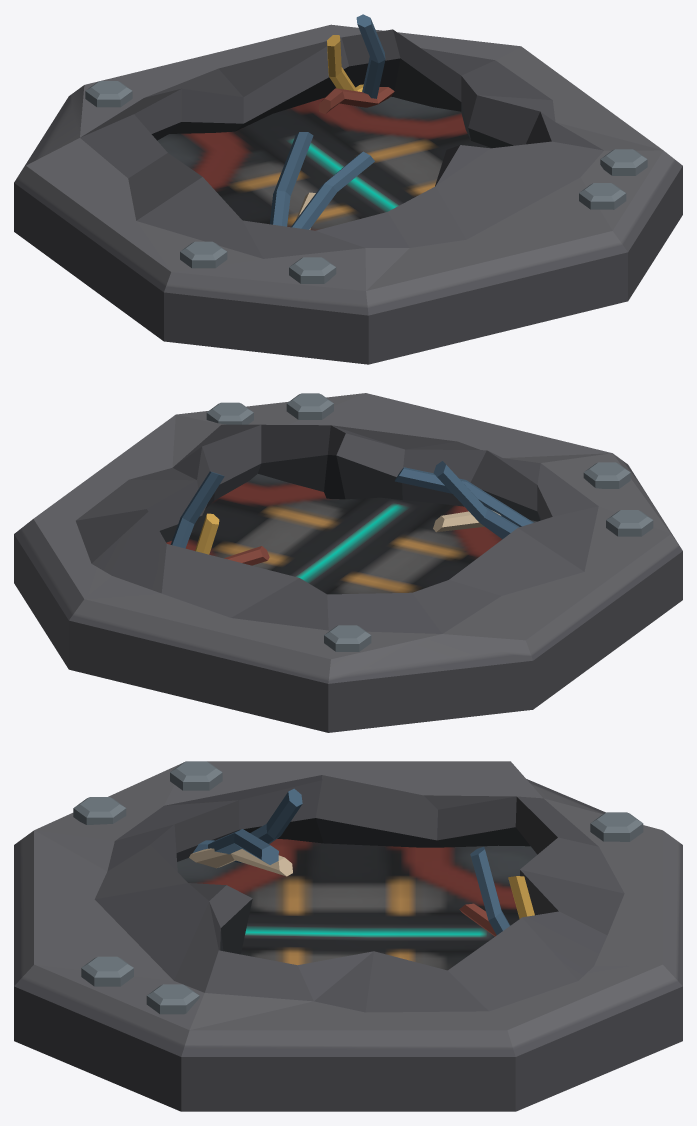
Rendered from SM_Prop_Pipe_Junction_Attatchment_03.fbx.
3 renders of one model, top to bottom at view 1: azimuth 30°, elevation 25°; view 2: azimuth 150°, elevation 25°; view 3: azimuth 270°, elevation 25°, orthographic. The views are drawn at different scales.
Parts seen in each view (by area): view 1: SM_Prop_Pipe_Junction_Attatchment_03; view 2: SM_Prop_Pipe_Junction_Attatchment_03; view 3: SM_Prop_Pipe_Junction_Attatchment_03.
Part boxes in pixels (<box>): SM_Prop_Pipe_Junction_Attatchment_03: <box>14,14,682,364</box>; SM_Prop_Pipe_Junction_Attatchment_03: <box>14,393,682,732</box>; SM_Prop_Pipe_Junction_Attatchment_03: <box>14,761,682,1111</box>.
Size of the model in its own units: 114 by 30.49 by 114.
